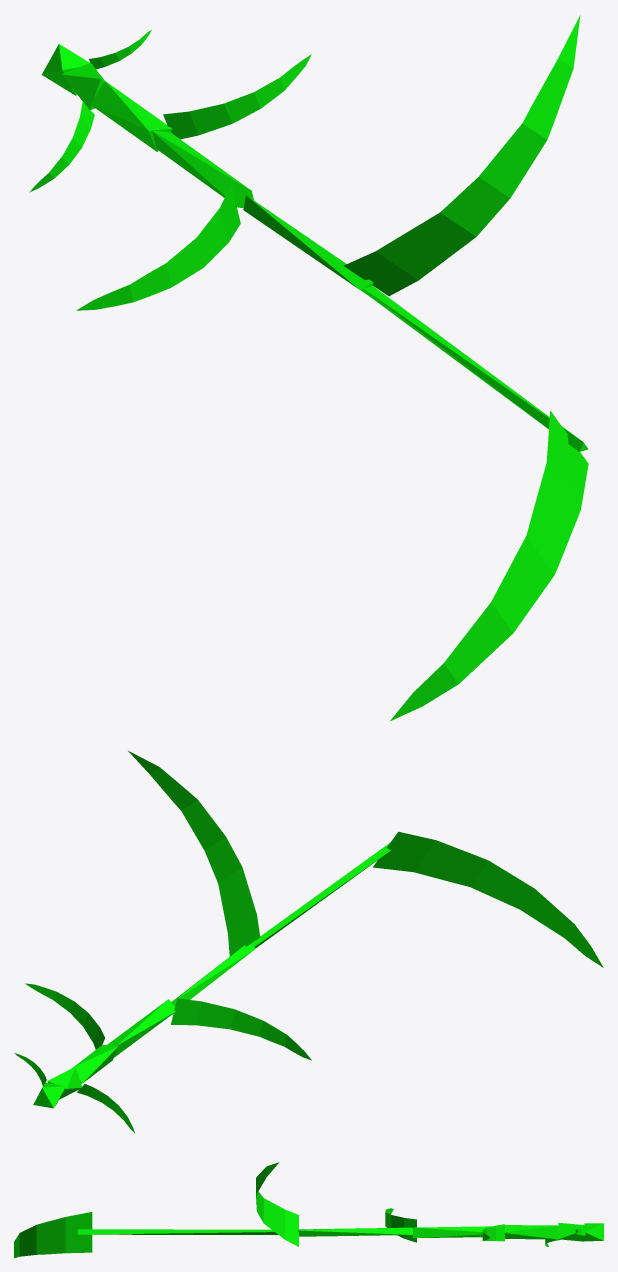
The model's file is usm_18_Beer_2018-08-12_0.obj.
The picture shows the model from 3 angles, top to bottom: view 1: azimuth 30°, elevation 25°; view 2: azimuth 150°, elevation 25°; view 3: azimuth 270°, elevation 25°; orthographic projection. The views are drawn at different scales.
Visible parts, largest first — view 1: vid_14, vid_12, vid_10, vid_8, vid_13, vid_9, vid_7, vid_11, vid_6, vid_5, vid_3; view 2: vid_14, vid_12, vid_10, vid_13, vid_9, vid_8, vid_11, vid_7, vid_6, vid_5, vid_3; view 3: vid_14, vid_12, vid_13, vid_11, vid_9, vid_7, vid_10, vid_5, vid_3, vid_8.
Part boxes in pixels (<box>): vid_14: <box>390,411,588,720</box>; vid_12: <box>343,15,580,296</box>; vid_10: <box>76,184,240,310</box>; vid_8: <box>163,54,311,139</box>; vid_13: <box>363,286,588,451</box>; vid_9: <box>152,130,253,207</box>; vid_7: <box>90,81,172,151</box>; vid_11: <box>243,195,373,294</box>; vid_6: <box>29,102,94,192</box>; vid_5: <box>61,62,104,110</box>; vid_3: <box>41,44,92,95</box>; vid_14: <box>373,831,603,967</box>; vid_12: <box>128,750,260,956</box>; vid_10: <box>171,998,311,1060</box>; vid_13: <box>250,842,390,947</box>; vid_9: <box>107,999,175,1057</box>; vid_8: <box>25,983,104,1049</box>; vid_11: <box>171,944,255,1006</box>; vid_7: <box>72,1045,118,1083</box>; vid_6: <box>77,1084,134,1132</box>; vid_5: <box>47,1067,81,1099</box>; vid_3: <box>33,1082,65,1108</box>; vid_14: <box>14,1212,92,1257</box>; vid_12: <box>256,1162,298,1246</box>; vid_13: <box>77,1229,278,1234</box>; vid_11: <box>297,1227,412,1236</box>; vid_9: <box>413,1226,491,1238</box>; vid_7: <box>504,1225,558,1239</box>; vid_10: <box>385,1208,416,1242</box>; vid_5: <box>558,1222,584,1241</box>; vid_3: <box>584,1223,603,1241</box>; vid_8: <box>482,1224,504,1241</box>.
Size of the model in its own units: 50.56 by 43.47 by 114.
